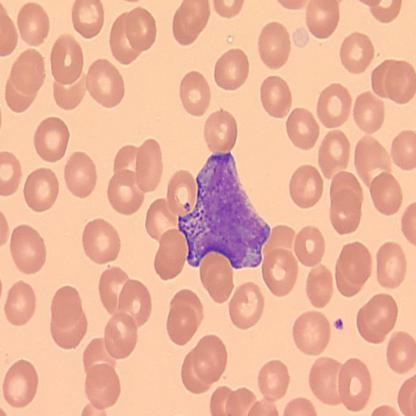Promyelocyte: (177, 149, 268, 265)
